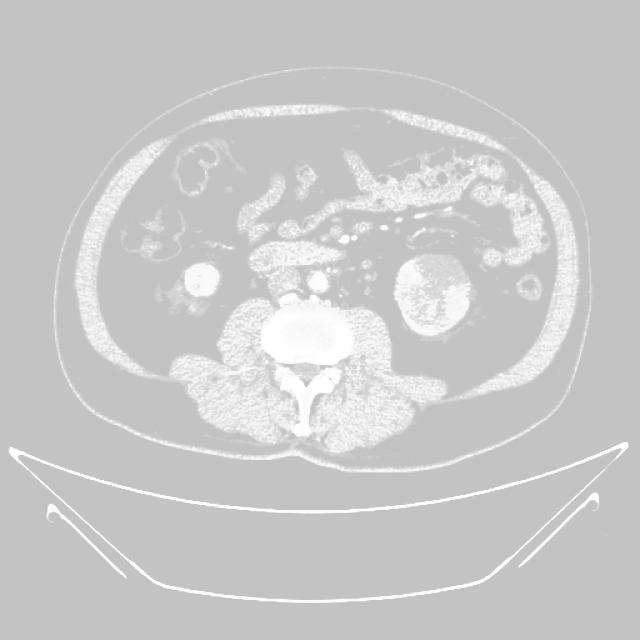TUMOR: (193, 207, 562, 369)
